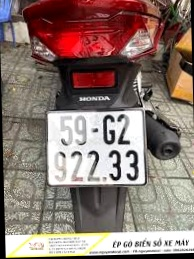Bien-so: (43, 114, 151, 200)
